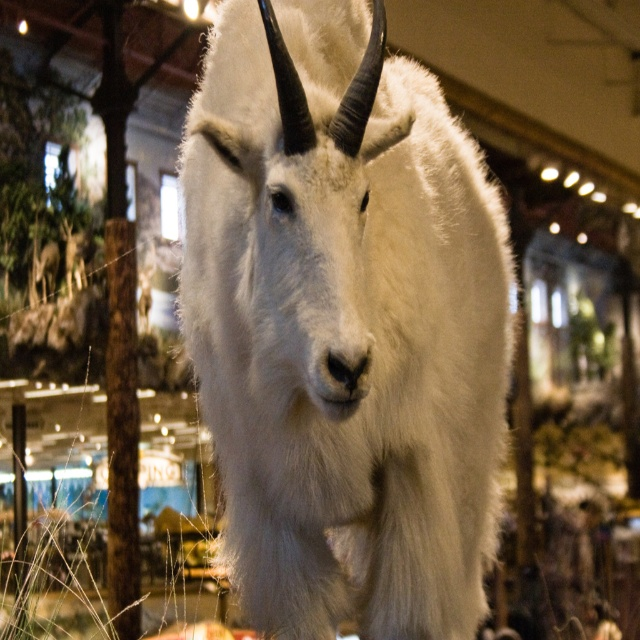Goat: (169, 0, 526, 639)
